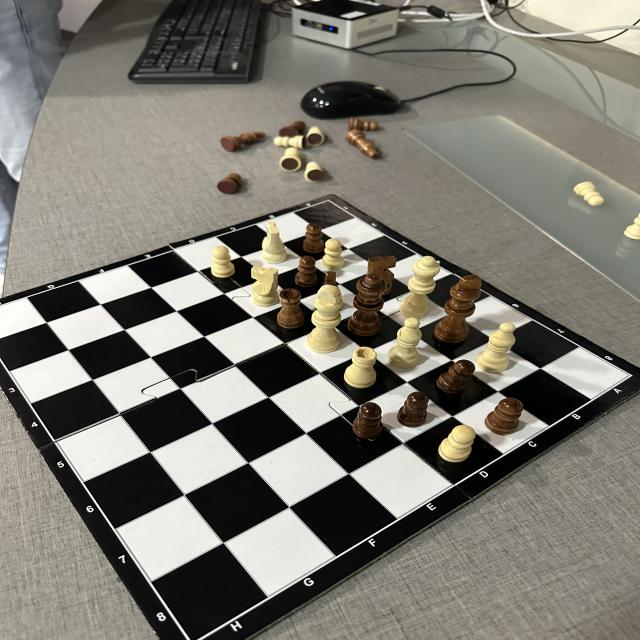Black-Bishop: (346, 130, 380, 160), (220, 131, 266, 153)
Black-King: (434, 274, 482, 344)
Black-Knight: (368, 255, 397, 295), (324, 271, 337, 285)
Black-Pawn: (484, 398, 524, 435), (436, 360, 475, 394), (397, 391, 429, 428), (353, 402, 383, 439), (294, 255, 318, 288), (302, 222, 325, 254), (217, 173, 242, 194), (348, 117, 379, 132), (281, 120, 306, 135)
Black-Queen: (347, 274, 387, 336)
Black-Rook: (277, 288, 305, 329)
White-Bishop: (476, 322, 516, 373), (387, 317, 423, 368)
White-King: (307, 284, 344, 354)
White-Knight: (261, 221, 288, 264), (250, 266, 278, 306)
White-Pawn: (438, 425, 476, 463), (210, 246, 236, 278), (573, 182, 605, 206), (322, 238, 345, 270), (273, 135, 305, 149), (327, 194, 337, 201)
White-Queen: (400, 256, 441, 318)
White-Rook: (344, 346, 377, 389)
